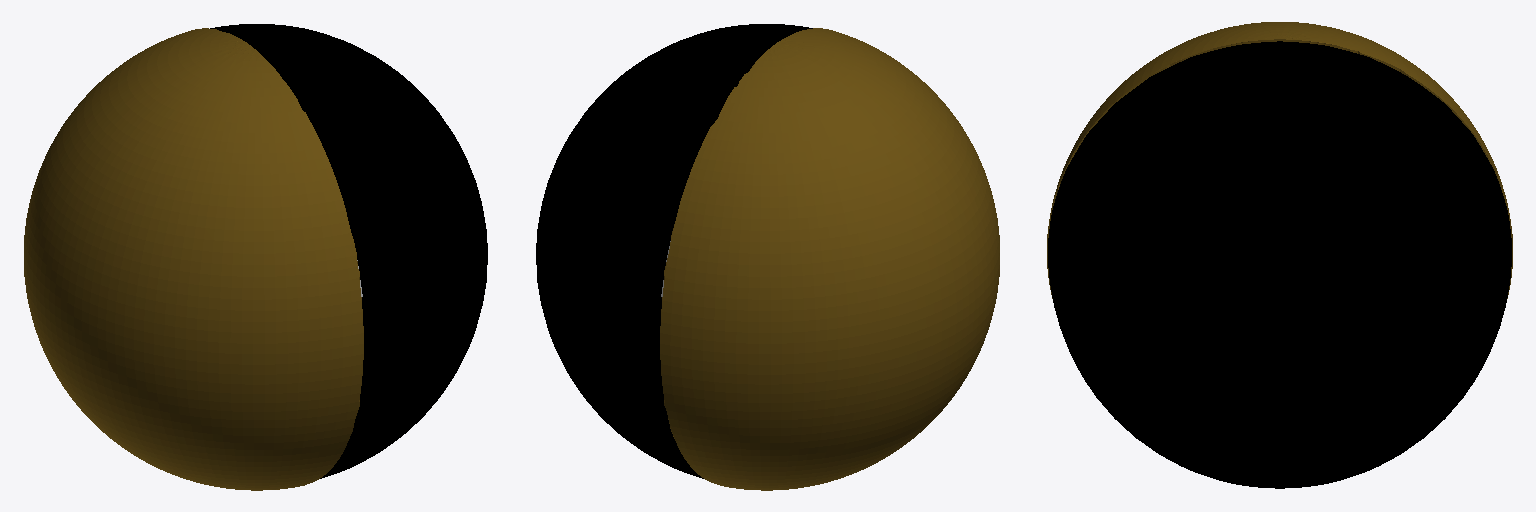
The model's file is extractor.obj.
3 views of the same model, side by side, from view 1: azimuth 30°, elevation 25°; view 2: azimuth 150°, elevation 25°; view 3: azimuth 270°, elevation 25° (orthographic).
Visible parts, largest first — view 1: Sphere.005_1, Sphere.005; view 2: Sphere.005_1, Sphere.005; view 3: Sphere.005, Sphere.005_1.
Boxes of the visible parts, box(x1,y1,x2,y2) form: Sphere.005_1: box(24, 28, 363, 490); Sphere.005: box(210, 24, 487, 478); Sphere.005_1: box(660, 28, 999, 490); Sphere.005: box(536, 24, 812, 478); Sphere.005: box(1048, 41, 1511, 488); Sphere.005_1: box(1047, 22, 1512, 298).
Bounding box in the file's own units: 0.0148 × 0.015 × 0.0149.